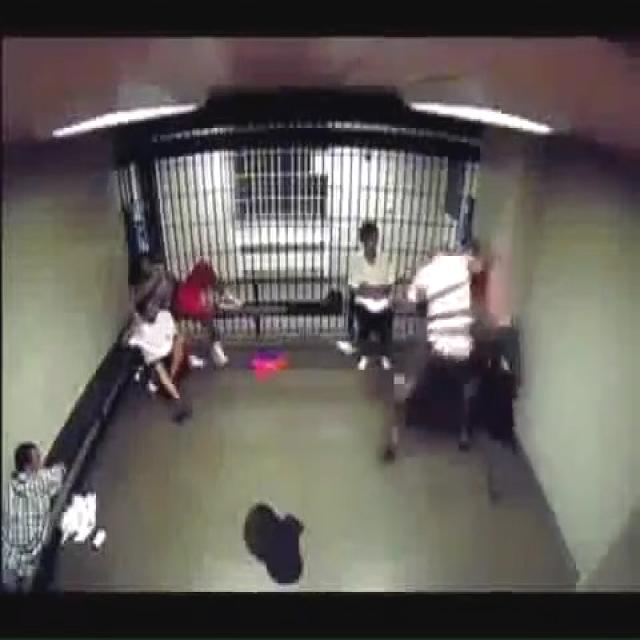fight: (400, 234, 522, 456)
